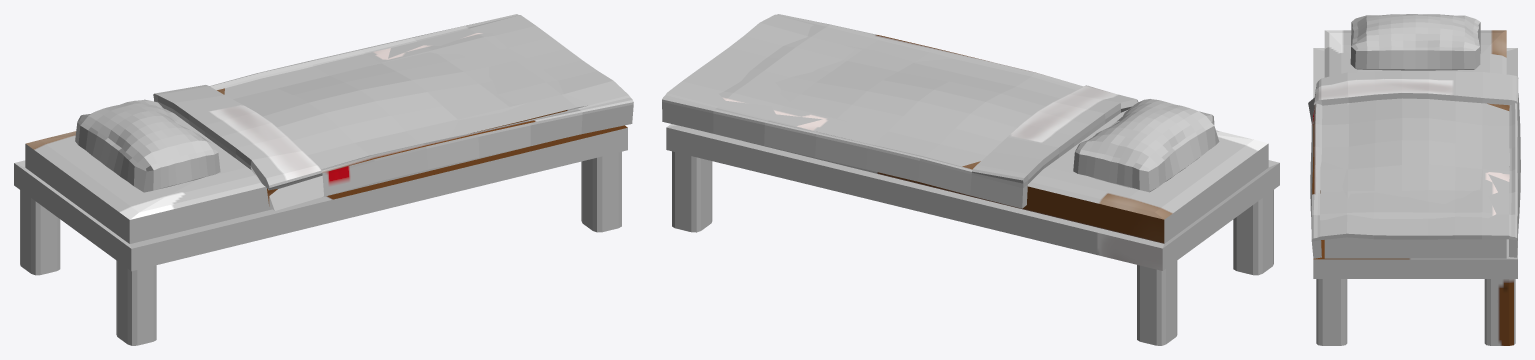
3 views of the same model, side by side, from view 1: azimuth 30°, elevation 25°; view 2: azimuth 150°, elevation 25°; view 3: azimuth 270°, elevation 25° (orthographic). The views are drawn at different scales.
Visible parts, largest first — view 1: Kostka.001; view 2: Kostka.001; view 3: Kostka.001.
Boxes of the visible parts, x1,y1,x2,y2 form: Kostka.001: (14,14,633,345); Kostka.001: (662,14,1279,345); Kostka.001: (1308,14,1520,345).
Bounding box in the file's own units: 1335 × 433 × 562.
Materials: 1 (1 with a texture image).
